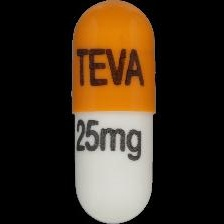0093-0811: (0, 0, 224, 224)
